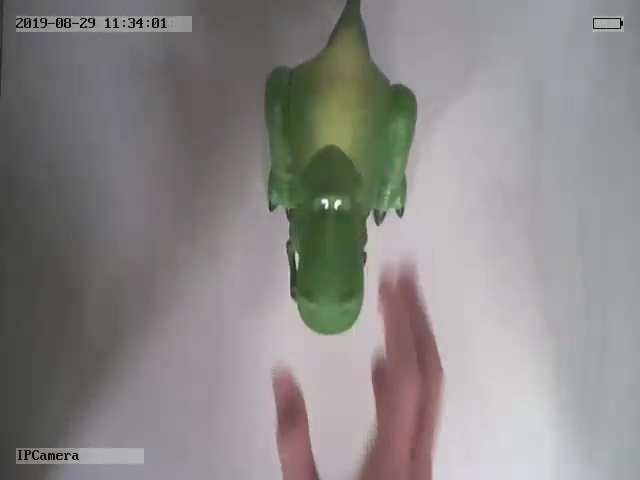rex: (266, 1, 420, 337)
